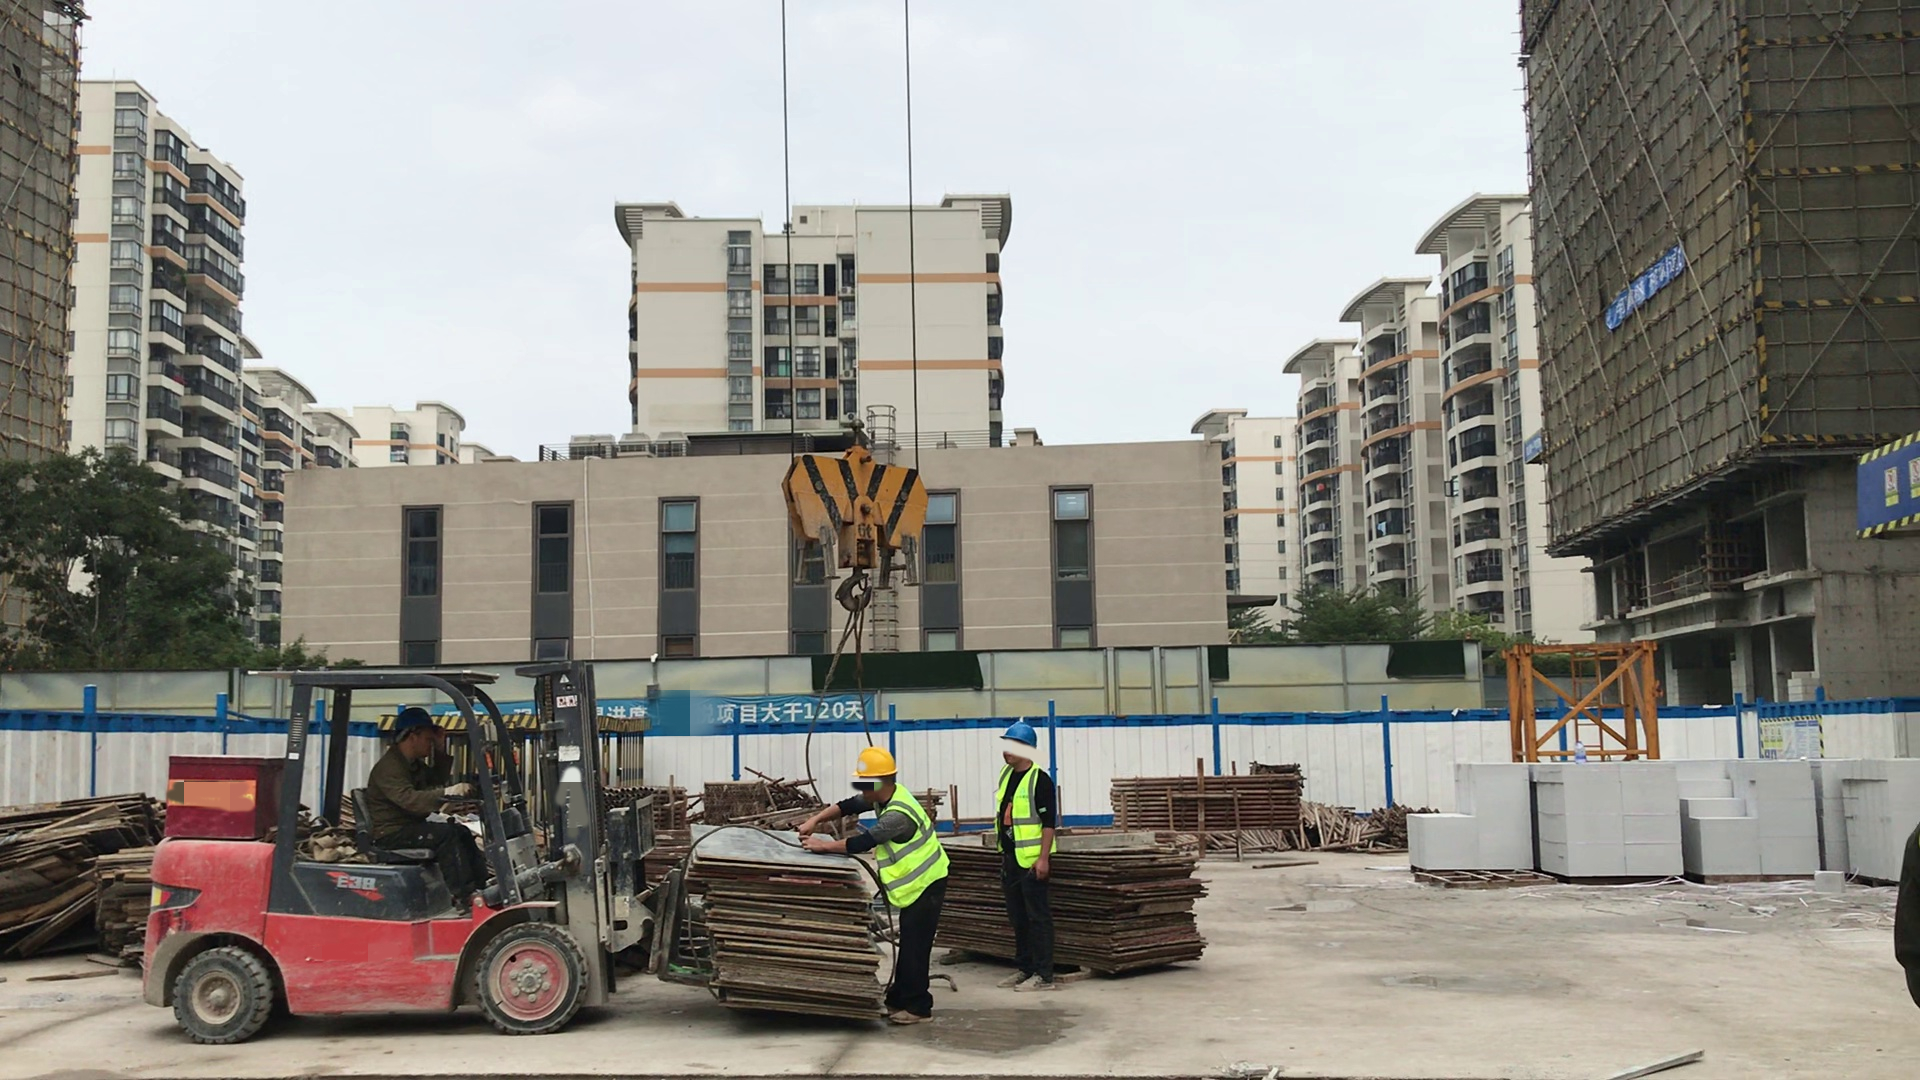board: (934, 829, 1223, 1009), (666, 825, 894, 1038)
brick: (1410, 753, 1920, 901)
helmet: (855, 748, 912, 784), (391, 707, 442, 732), (1002, 717, 1036, 747)
hook: (789, 422, 964, 598)
person: (829, 745, 951, 1024), (368, 697, 481, 907), (997, 702, 1060, 1020)
scaffold: (1111, 776, 1305, 827), (694, 768, 787, 822)
slogan: (627, 673, 883, 722)
vest: (858, 799, 947, 900), (1003, 763, 1053, 861)
